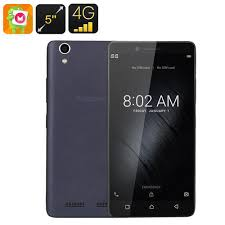lenovo: (104, 36, 197, 218)
